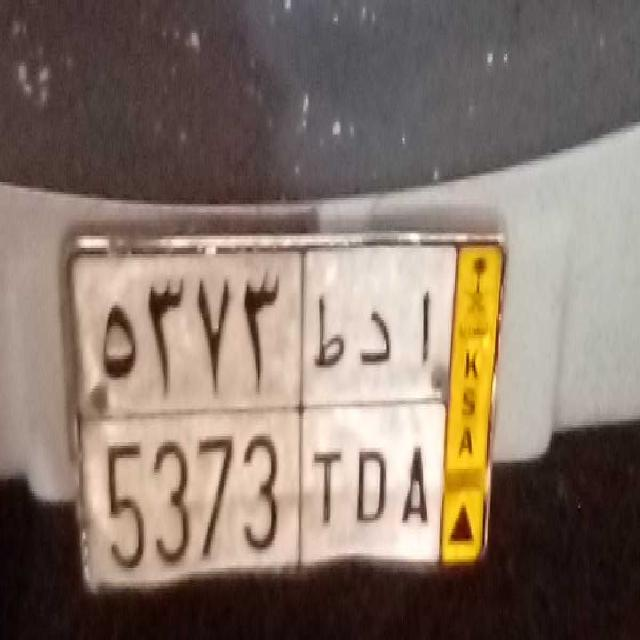license_plate: (77, 407, 443, 584)
